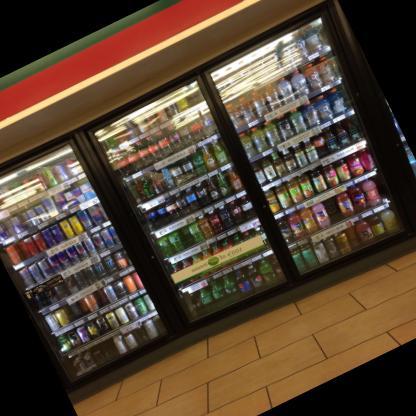empty_space: (323, 196, 346, 225), (175, 225, 196, 250)
